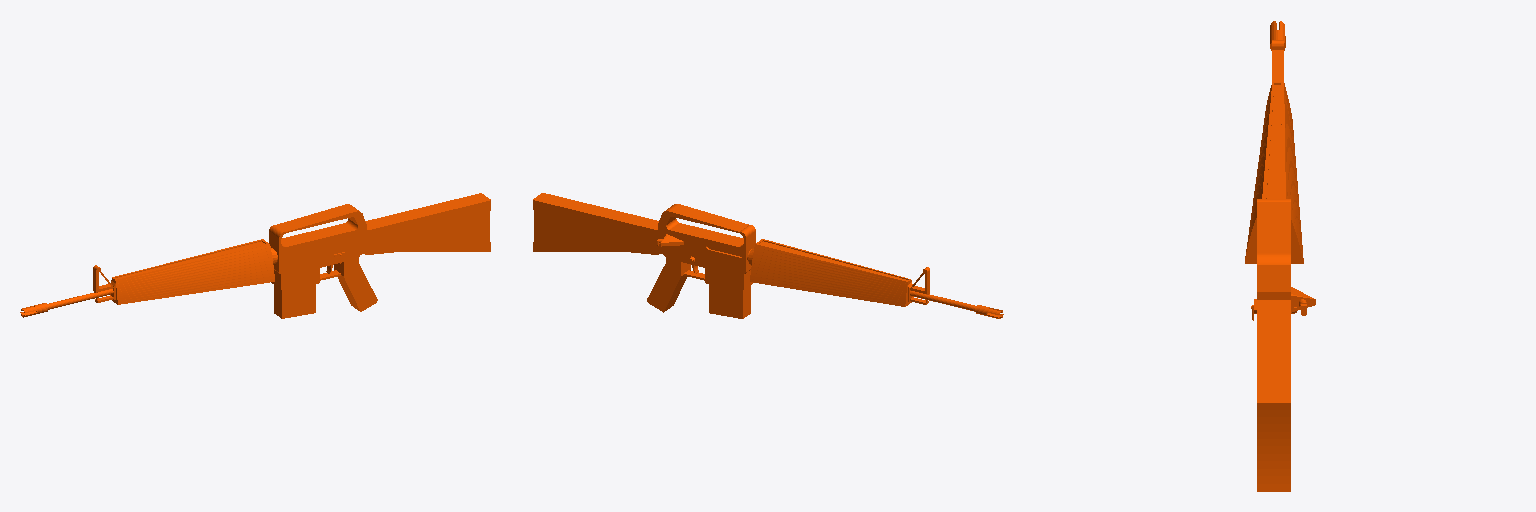
robot.urdf — Gun_ed9225ab8a02b0fd4b349e4b3dd5565e:
<?xml version="1.0" ?>
<robot name="Gun_ed9225ab8a02b0fd4b349e4b3dd5565e">
   <material name="obj_color">
      <color rgba="1.0 0.423529411765 0.0392156862745 1.0"/>
   </material>
   <link name="top">
      <inertial>
         <origin rpy="3.896918791398834e-06 8.013876832791884e-05 8.329326340769972e-05" xyz="0.02693904198813357 0.0001859266660981538 -0.004451126768285482"/>
         <mass value="0.04543310457375313"/>
         <inertia ixx="4.233492842332994e-06" ixy="6.649857807138289e-08" ixz="5.054076016225816e-06" iyy="8.328998075340589e-05" iyz="-1.053034474043562e-07" izz="7.98054769312785e-05"/>
      </inertial>
      <visual>
         <origin rpy="0 0 0" xyz="0 0 0"/>
         <geometry>
            <mesh filename="top_watertight_tiny.stl" scale="1 1 1"/>
         </geometry>
         <material name="obj_color"/>
      </visual>
      <collision>
         <origin rpy="0 0 0" xyz="0 0 0"/>
         <geometry>
            <mesh filename="top_watertight_tiny.obj" scale="1 1 1"/>
         </geometry>
      </collision>
   </link>
   <link name="bottom">
      <inertial>
         <origin rpy="1.633333333199431e-08 1.633333333199431e-08 1.633333333362855e-08" xyz="0.3464080000000008 0.3464080000000008 0.3464080000000008"/>
         <mass value="0.0009800000000000017"/>
         <inertia ixx="1.633333333253906e-08" ixy="5.447480642029219e-19" ixz="5.447480642029219e-19" iyy="1.633333333253906e-08" iyz="5.447480642029219e-19" izz="1.633333333253906e-08"/>
      </inertial>
      <visual>
         <origin rpy="0 0 0" xyz="0 0 0"/>
         <geometry>
            <mesh filename="bottom_watertight_tiny.stl" scale="1 1 1"/>
         </geometry>
         <material name="obj_color"/>
      </visual>
   </link>
   <link name="world"/>
   <joint name="world_to_base" type="fixed">
      <origin xyz="0 0 0"/>
      <axis xyz="0 0 0"/>
      <parent link="world"/>
      <child link="bottom"/>
   </joint>
   <joint name="rotation" type="revolute">
      <origin xyz="0 0 0"/>
      <axis xyz="0 0 -1"/>
      <parent link="bottom"/>
      <child link="top"/>
      <dynamics damping="1.0" friction="1.0"/>
      <limit effort="0.1" velocity="0.1" lower="0" upper="0.001"/>
   </joint>
</robot>

--- Render facts (derived) ---
Views: 3 orthographic renders of the robot side by side, from view 1: azimuth 30°, elevation 25°; view 2: azimuth 150°, elevation 25°; view 3: azimuth 270°, elevation 25°.
Robot: Gun_ed9225ab8a02b0fd4b349e4b3dd5565e — 3 links, 2 joints (1 revolute, 1 fixed); root link world; default pose: every joint at zero.
Links seen in each view (by area): view 1: top; view 2: top; view 3: top.
Boxes of the visible links, bbox=[...] form: top: bbox=[20, 193, 490, 318]; top: bbox=[533, 193, 1003, 318]; top: bbox=[1245, 21, 1315, 491].
Bounding box of the posed robot: 0.1912 × 0.015 × 0.0412 m (x, y, z).
Meshes: 2 distinct files referenced, 1 mesh visuals loaded (1 binary STL); not drawn: 1 (reference not matched to a file when rendering).
